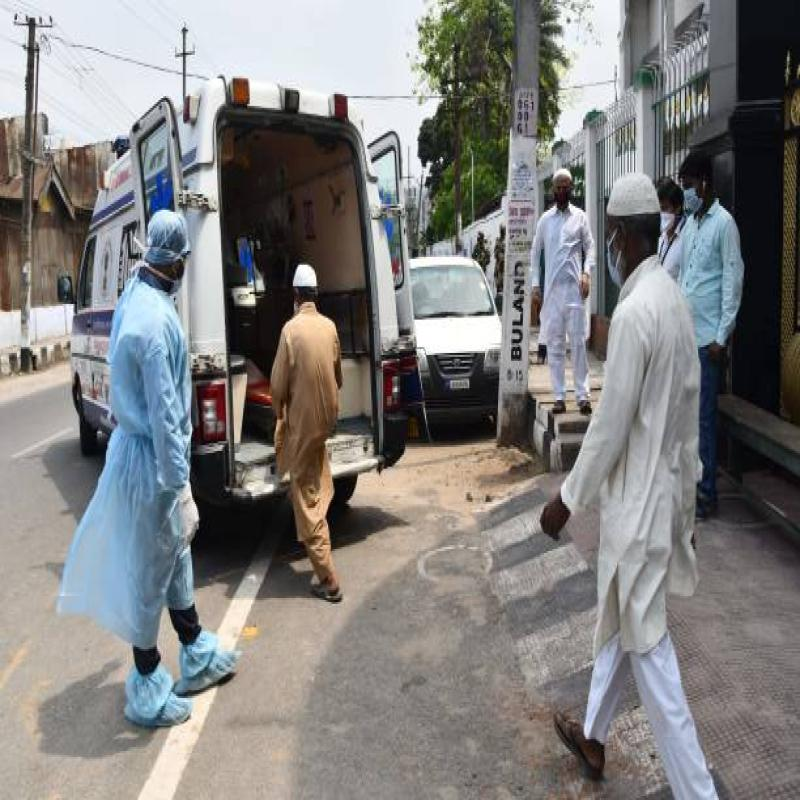ambulance: (68, 83, 394, 512)
